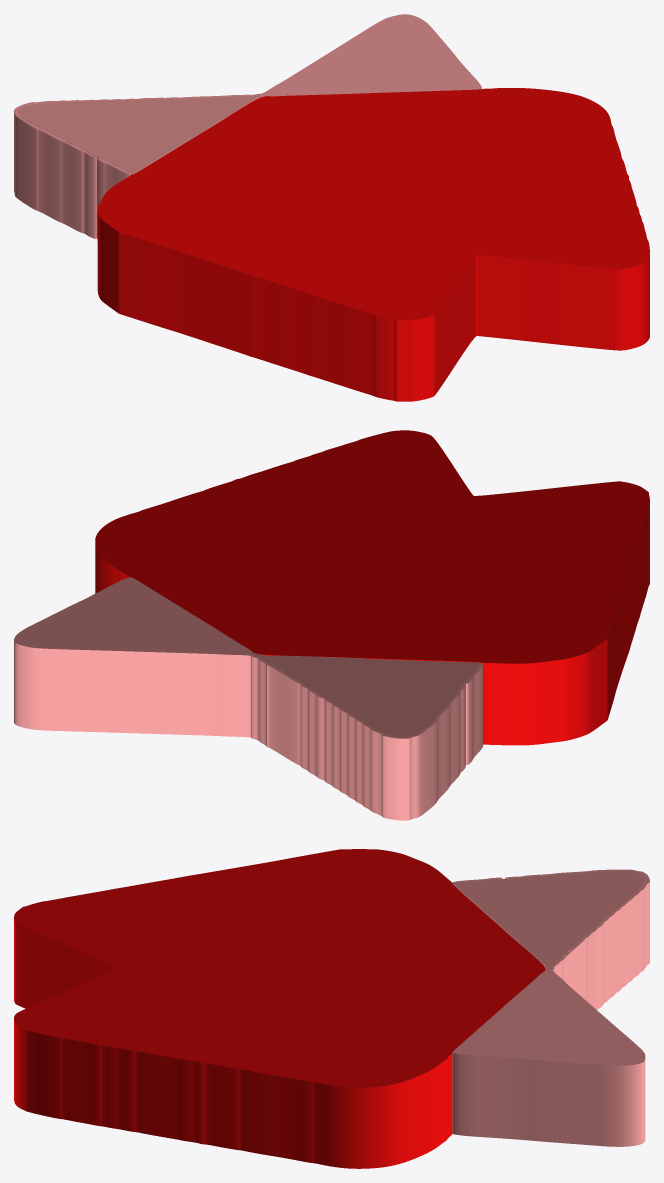
Rendered from webxr.glb.
3 views of the same model, one above another, from view 1: azimuth 30°, elevation 25°; view 2: azimuth 150°, elevation 25°; view 3: azimuth 270°, elevation 25° (orthographic).
Parts seen in each view (by area): view 1: Node1, Node2, Node5, Node3; view 2: Node1, Node2, Node5, Node3; view 3: Node1, Node2, Node5.
Boxes of the visible parts, left/top/right/bottom form: Node1: left=97, top=88, right=649, bottom=401; Node2: left=14, top=14, right=481, bottom=238; Node5: left=18, top=95, right=260, bottom=237; Node3: left=97, top=158, right=131, bottom=240; Node1: left=95, top=430, right=649, bottom=745; Node2: left=14, top=577, right=465, bottom=820; Node5: left=255, top=654, right=480, bottom=737; Node3: left=465, top=663, right=482, bottom=765; Node1: left=14, top=849, right=545, bottom=1168; Node2: left=452, top=869, right=649, bottom=1146; Node5: left=453, top=871, right=644, bottom=968.
Bounding box in the file's own units: 3.15 × 0.5 × 3.55.
